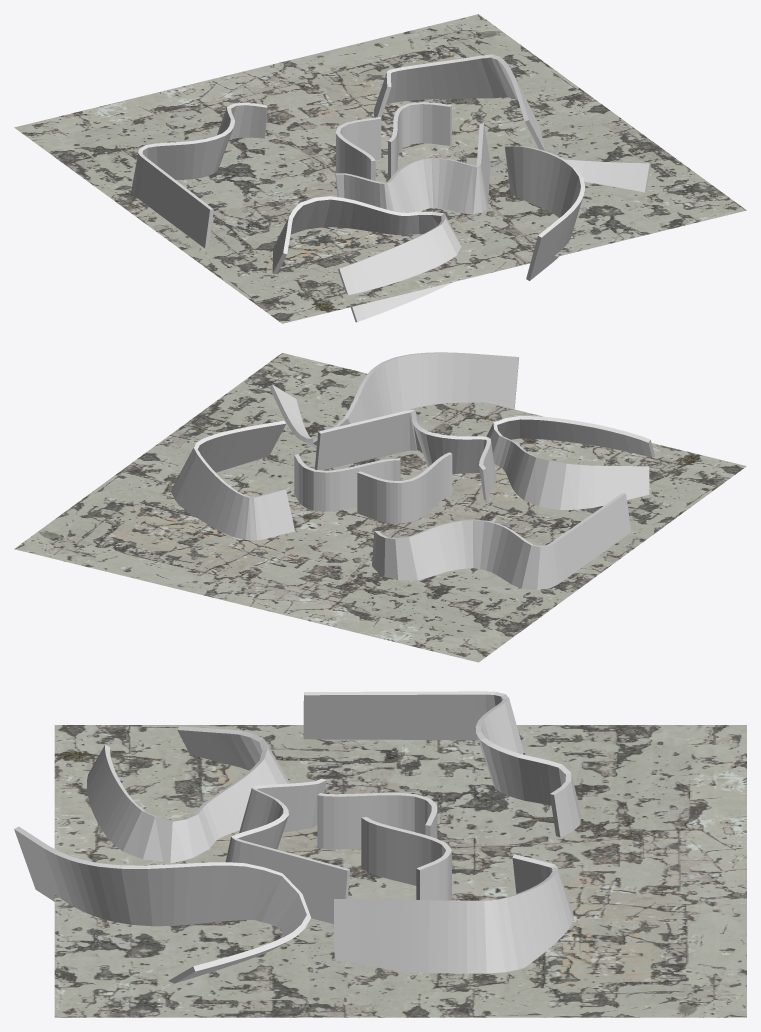
File: curved_maze.dae
3 renders of one model, top to bottom at view 1: azimuth 30°, elevation 25°; view 2: azimuth 150°, elevation 25°; view 3: azimuth 270°, elevation 25°, orthographic. The views are drawn at different scales.
Visible parts, largest first — view 1: Plane, Maze; view 2: Plane, Maze; view 3: Plane, Maze.
Part boxes in pixels (x1,y1,x2,y2): Plane: (14, 14, 746, 323); Maze: (131, 54, 650, 322); Plane: (14, 353, 746, 662); Maze: (171, 352, 654, 590); Plane: (54, 725, 746, 1017); Maze: (14, 691, 581, 983).
Size of the model in its own units: 28.29 by 29.95 by 4.44.
2 materials, 1 textured.
